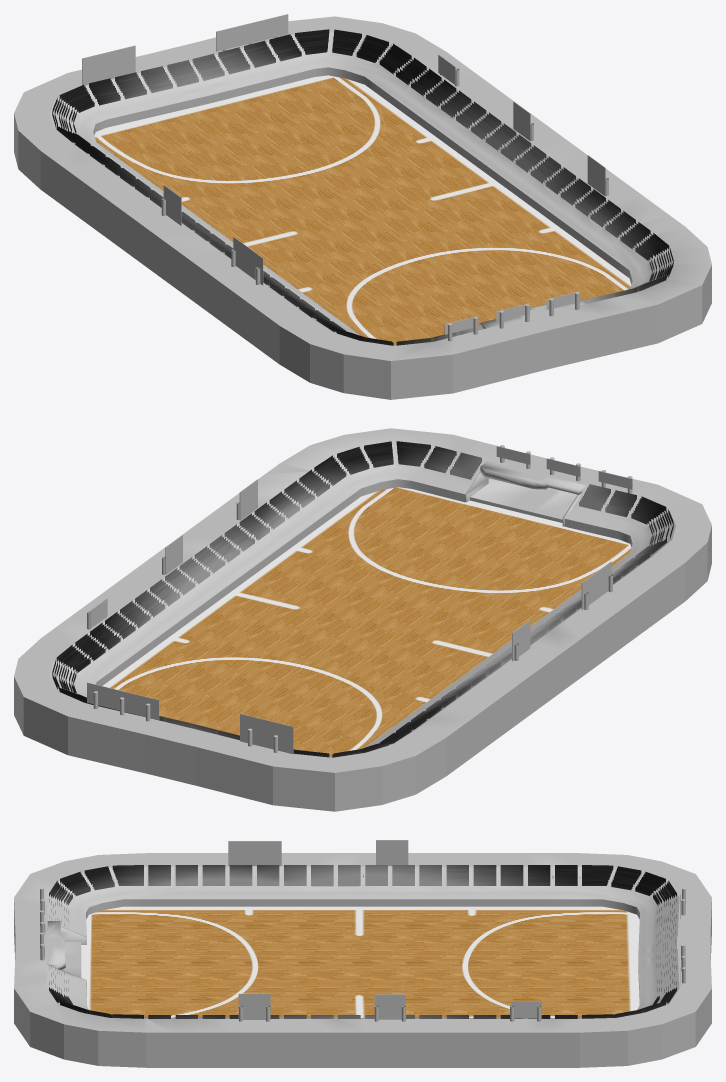
The model's file is stadeum.fbx.
The picture shows the model from 3 angles, top to bottom: view 1: azimuth 30°, elevation 25°; view 2: azimuth 150°, elevation 25°; view 3: azimuth 270°, elevation 25°; orthographic projection. The views are drawn at different scales.
Parts seen in each view (by area): view 1: crowd, pPlane1, Polygonal_Geometry_35, Polygonal_Geometry_7, stadeum; view 2: crowd, pPlane1, Polygonal_Geometry_35, Polygonal_Geometry_7, stadeum; view 3: crowd, pPlane1, Polygonal_Geometry_35, stadeum, Polygonal_Geometry_7.
Boxes of the visible parts, bbox=[...] form: crowd: bbox=[14, 16, 711, 399]; pPlane1: bbox=[94, 75, 631, 344]; Polygonal_Geometry_35: bbox=[52, 29, 673, 345]; Polygonal_Geometry_7: bbox=[82, 14, 605, 334]; stadeum: bbox=[93, 67, 632, 344]; crowd: bbox=[14, 428, 711, 811]; pPlane1: bbox=[102, 487, 631, 756]; Polygonal_Geometry_35: bbox=[52, 441, 673, 757]; Polygonal_Geometry_7: bbox=[87, 446, 632, 754]; stadeum: bbox=[96, 479, 632, 756]; crowd: bbox=[14, 853, 711, 1067]; pPlane1: bbox=[81, 906, 639, 1017]; Polygonal_Geometry_35: bbox=[49, 865, 676, 1018]; stadeum: bbox=[86, 899, 639, 1018]; Polygonal_Geometry_7: bbox=[44, 840, 680, 1019].
Bounding box in the file's own units: 19334 × 3070 × 31768.
